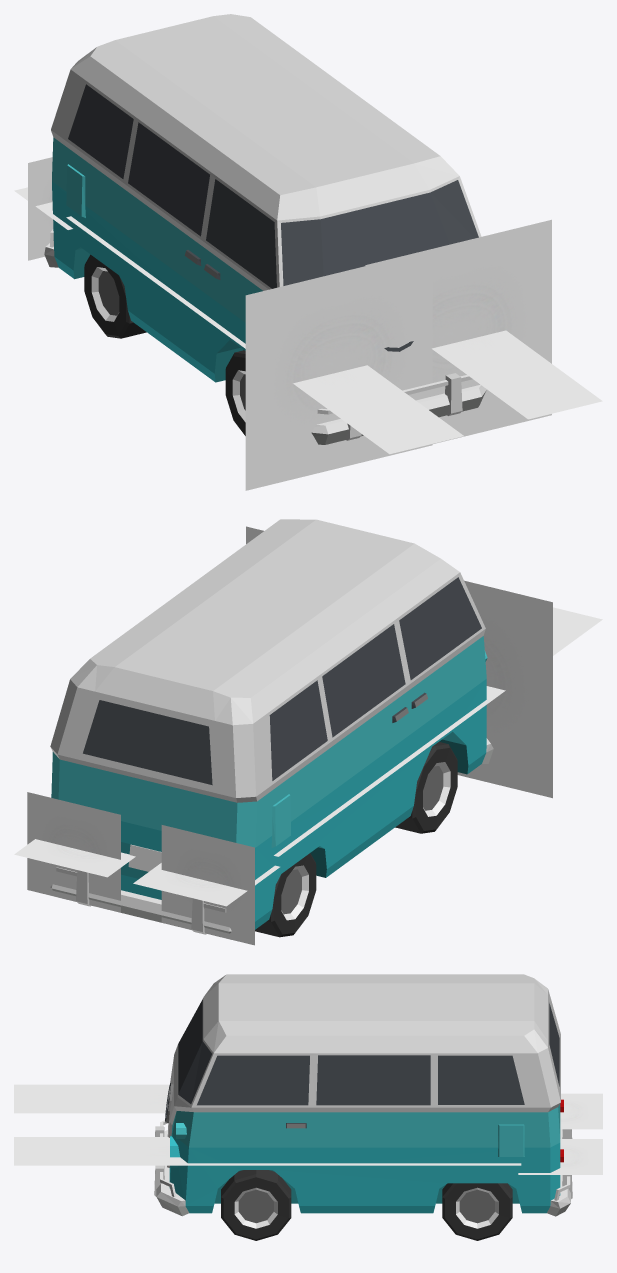
Rendered from VWHippie.fbx.
3 renders of one model, top to bottom at view 1: azimuth 30°, elevation 25°; view 2: azimuth 150°, elevation 25°; view 3: azimuth 270°, elevation 25°, orthographic. The views are drawn at different scales.
Visible parts, largest first — view 1: BodyMesh, StopLightBillboard (×5), Wheel (×2); view 2: BodyMesh, StopLightBillboard (×6), Wheel (×2); view 3: BodyMesh, StopLightBillboard (×4), Wheel (×2).
Part boxes in pixels (x1,y1,x2,y2): BodyMesh: [44, 14, 486, 444]; StopLightBillboard (×5): [28, 157, 602, 490]; Wheel (×2): [84, 254, 245, 435]; BodyMesh: [50, 519, 493, 934]; StopLightBillboard (×6): [14, 580, 602, 945]; Wheel (×2): [255, 742, 457, 937]; BodyMesh: [154, 974, 572, 1216]; StopLightBillboard (×4): [14, 1084, 602, 1174]; Wheel (×2): [221, 1170, 512, 1240].
Bounding box in the file's own units: 1.64 × 1.33 × 3.48.
Materials: 3 (3 with a texture image).
